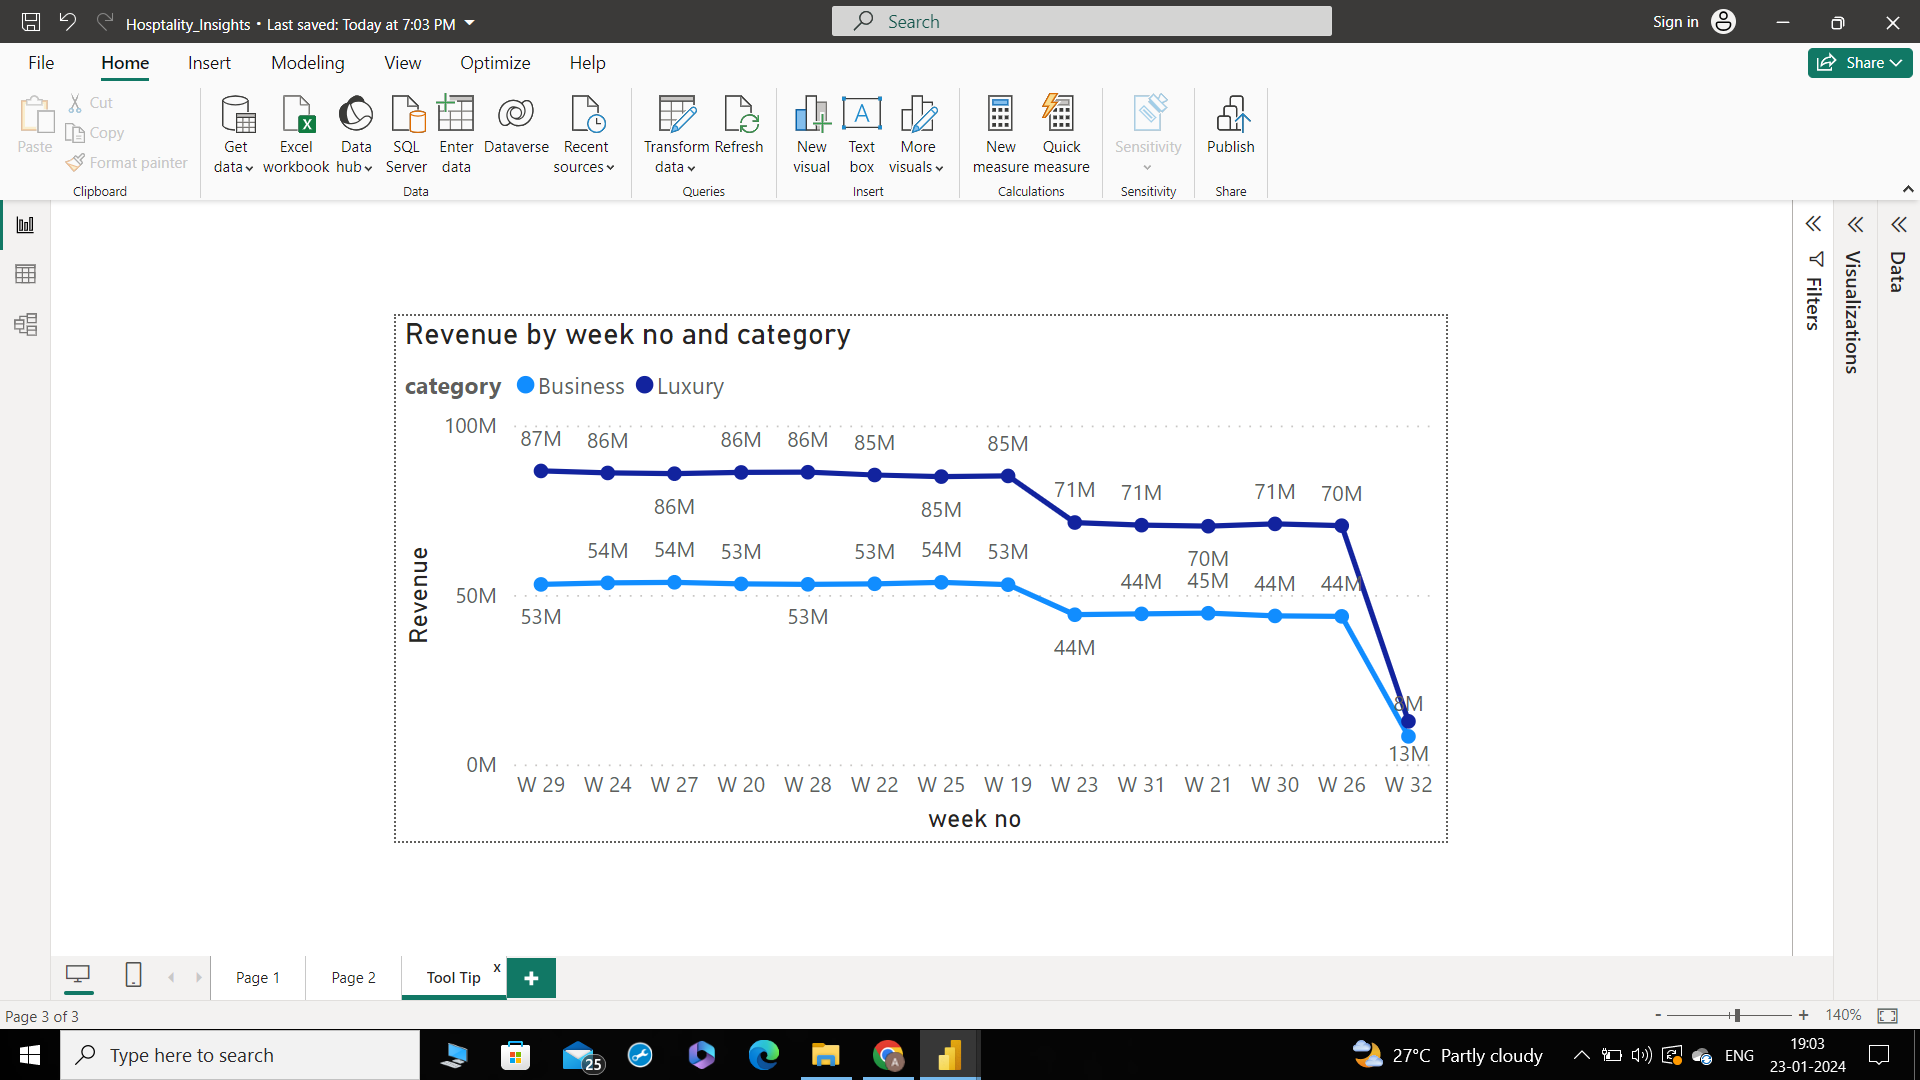

The page's visual inventory and layout, read from the dashboard file:
{"tool":"powerbi","page":{"name":"Tool Tip","canvas":[600,300],"ordinal":2},"visuals":[{"type":"lineChart","fields":{"Category":["dim_date.week no"],"Y":["key_measures (2).Revenue"],"Series":["dim_hotels.category"]},"box":[0,0,600,300],"z":0}]}

Visuals, with their boxes on the page's 600x300 design canvas (x1, y1, x2, y2). These are canvas units, not pixel positions in the 1920x1080 screenshot, which may show the page scaled, cropped or inside an application window:
lineChart - dim_date.week no x key_measures (2).Revenue: (x1=0, y1=0, x2=600, y2=300)
